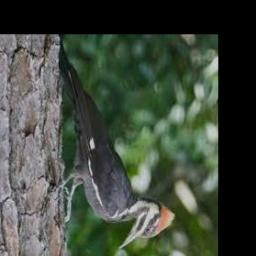Woodpecker: (57, 37, 176, 249)
